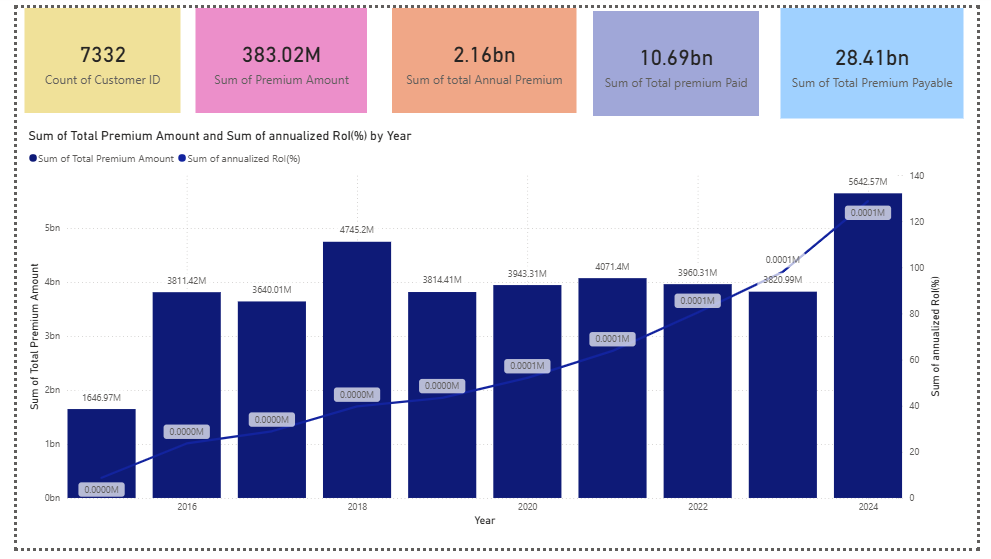

The dashboard page shown, as its layout file describes it:
{"tool":"powerbi","page":{"name":"Page 3","canvas":[1280,720],"ordinal":1},"visuals":[{"type":"card","fields":{"Values":["CountNonNull(Insurance_Policy_Table.Customer ID)"]},"box":[9.4,0,207.9,139.8],"z":0},{"type":"card","fields":{"Values":["Sum(Insurance_Policy_Table.Premium Amount)"]},"box":[238.1,0,228.7,139.8],"z":1000},{"type":"card","fields":{"Values":["Sum(Insurance_Policy_Table.total Annual Premium)"]},"box":[500.8,0,245.7,139.8],"z":2000},{"type":"card","fields":{"Values":["Sum(Insurance_Policy_Table.Total premium Paid)"]},"box":[767.2,3.8,221.1,139.8],"z":3000},{"type":"card","fields":{"Values":["Sum(Insurance_Policy_Table.Total Premium Payable)"]},"box":[1018.6,0,243.8,147.4],"z":4000},{"type":"lineClusteredColumnComboChart","fields":{"Category":["Insurance_Policy_Table.Start Date.Variation.Date Hierarchy.Year","Insurance_Policy_Table.Start Date.Variation.Date Hierarchy.Quarter","Insurance_Policy_Table.Start Date.Variation.Date Hierarchy.Month","Insurance_Policy_Table.Start Date.Variation.Date Hierarchy.Day"],"Y":["Sum(Insurance_Policy_Table.Total Premium Amount)"],"Y2":["Sum(Insurance_Policy_Table.annualized RoI(%))"]},"box":[9.7,160.3,1225.8,536],"z":5000}]}

Visuals, with their boxes in screenshot pixels (x1, y1, x2, y2), scaled from the page's 1280x720 canvas onto the 991x559 screenshot:
card - CountNonNull(Insurance_Policy_Table.Customer ID): 7, 0, 168, 109
card - Sum(Insurance_Policy_Table.Premium Amount): 184, 0, 361, 109
card - Sum(Insurance_Policy_Table.total Annual Premium): 388, 0, 578, 109
card - Sum(Insurance_Policy_Table.Total premium Paid): 594, 3, 765, 111
card - Sum(Insurance_Policy_Table.Total Premium Payable): 789, 0, 977, 114
lineClusteredColumnComboChart - Insurance_Policy_Table.Start Date.Variation.Date Hierarchy.Year x Insurance_Policy_Table.Start Date.Variation.Date Hierarchy.Quarter: 8, 124, 957, 541
